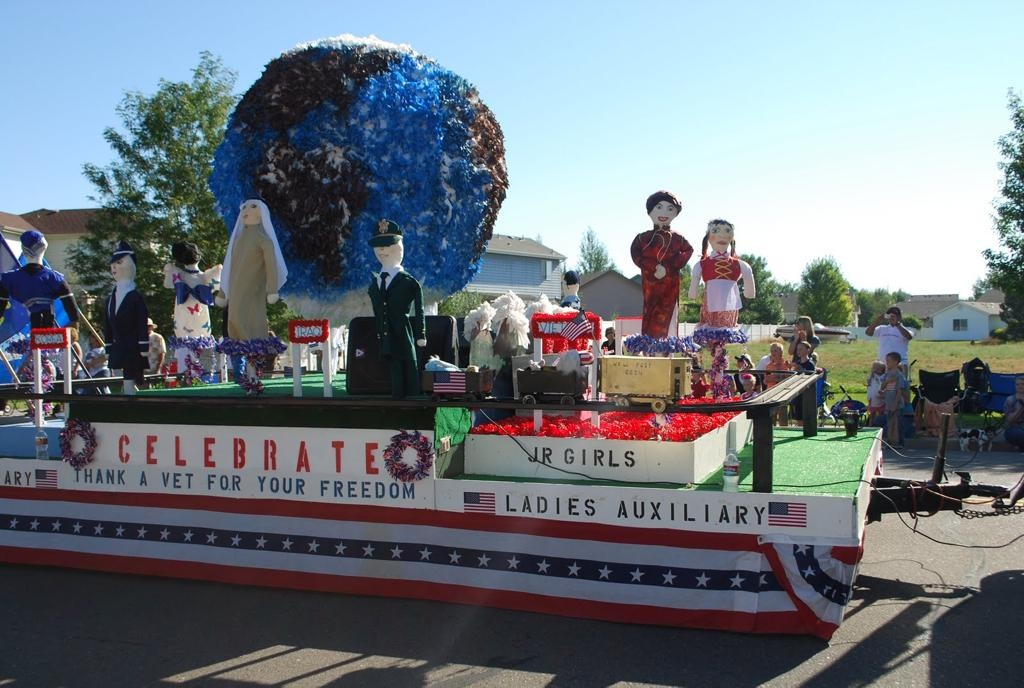human_face: (771, 346, 783, 360), (88, 329, 98, 345), (142, 320, 152, 334), (797, 343, 807, 357), (1014, 378, 1024, 391), (886, 354, 896, 366), (889, 311, 897, 325), (796, 320, 806, 330), (737, 358, 745, 368), (745, 380, 753, 389), (876, 362, 882, 373), (606, 330, 614, 338)
